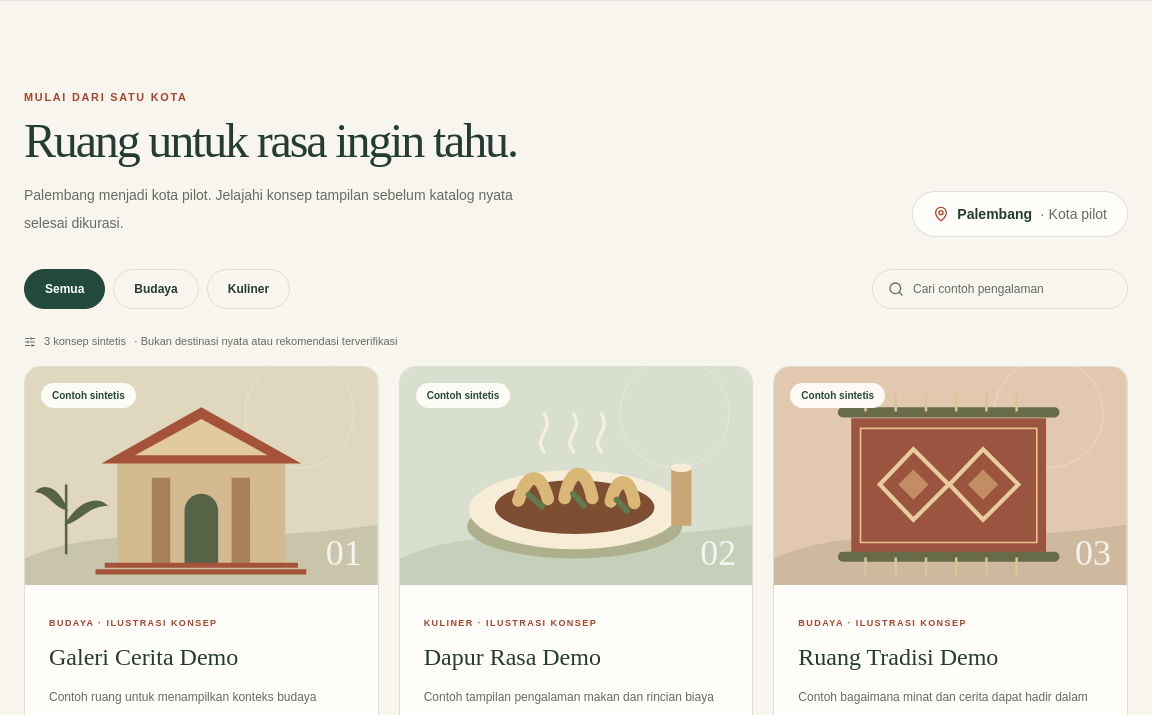
destination concept discovery › filters explicitly synthetic concepts and resets an empty search
expect the text "Contoh sintetis" is shown 3 times: met, box left=41, top=383, right=136, bottom=408; left=416, top=383, right=510, bottom=408; left=790, top=383, right=885, bottom=408
Click the button "Kuliner". click: (248, 289)
box: left=207, top=269, right=290, bottom=309
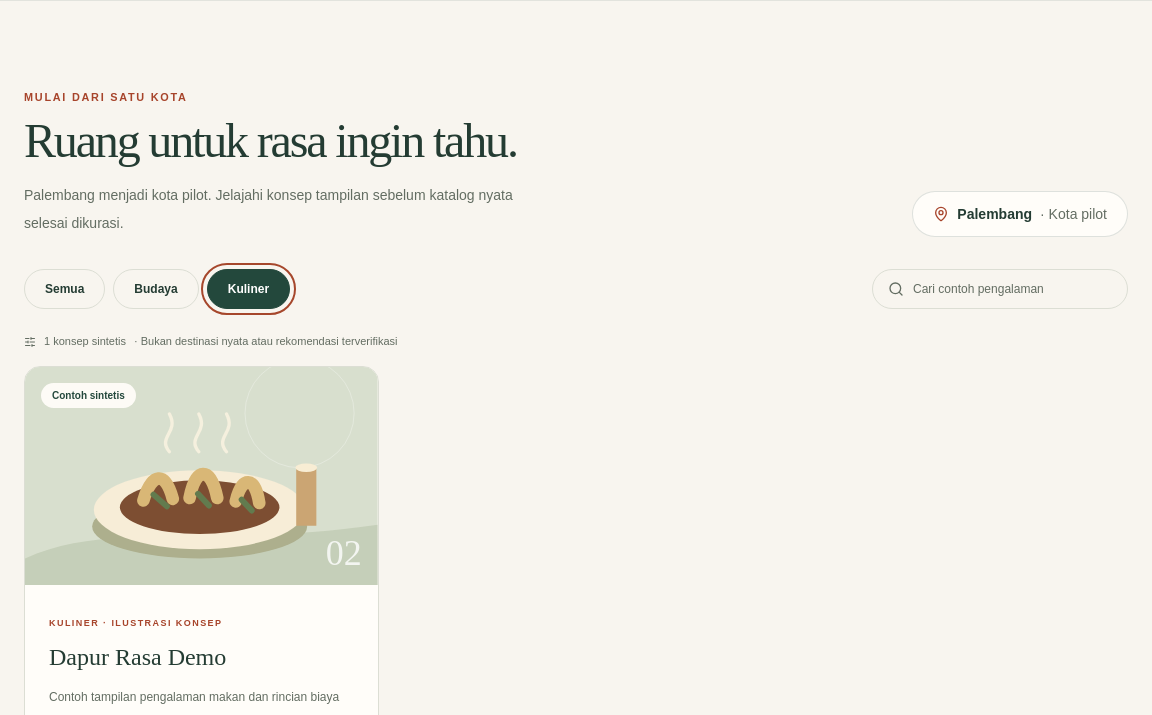
expect the heading "Dapur Rasa Demo" is shown: met, box left=49, top=644, right=226, bottom=670
expect the heading "Galeri Cerita Demo" is gone: met
Type "tidak-ada" into the search field. click: (1000, 289)
box: left=872, top=269, right=1128, bottom=309
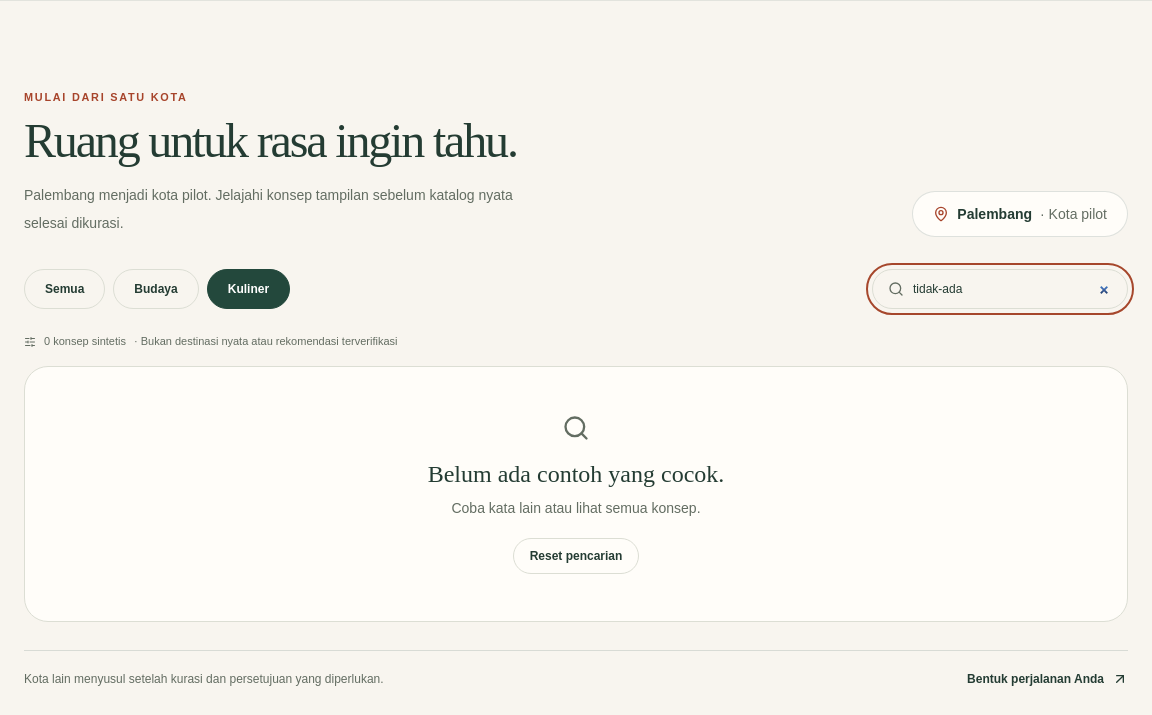
expect the heading "Belum ada contoh yang cocok." is shown: met, box left=428, top=458, right=724, bottom=490
Click the button "Reset pencarian". click: (576, 556)
box: left=513, top=538, right=639, bottom=574
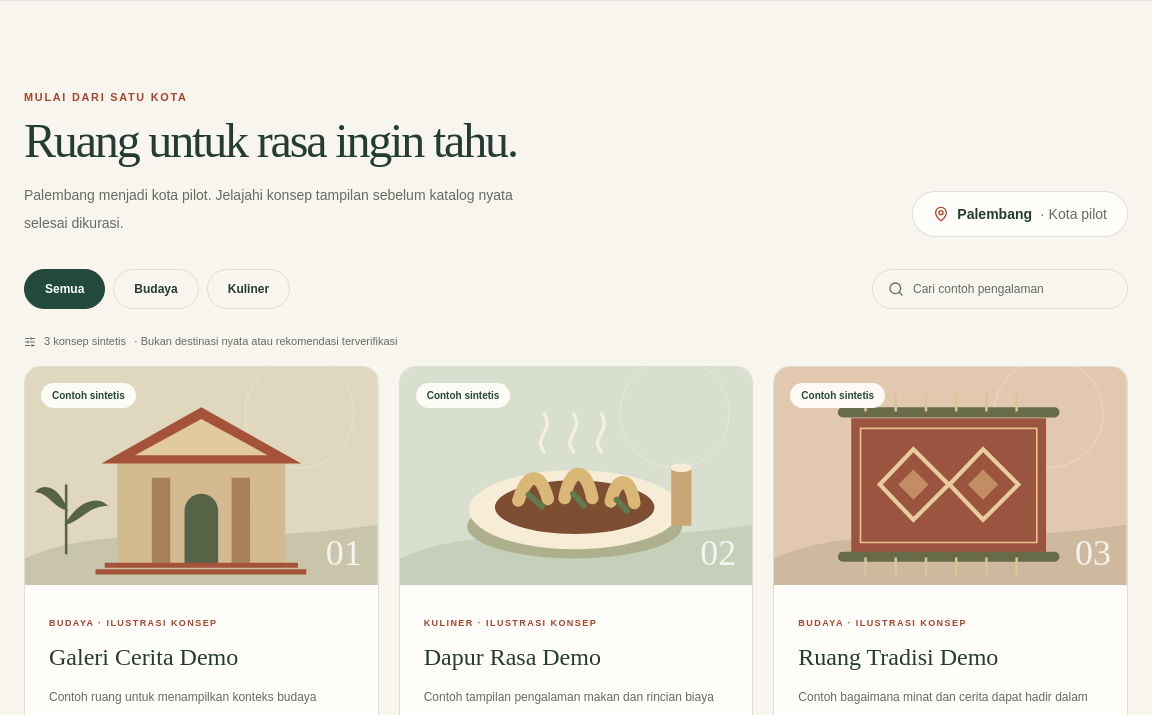
expect the text "Contoh sintetis" is shown 3 times: met, box left=41, top=383, right=136, bottom=408; left=416, top=383, right=510, bottom=408; left=790, top=383, right=885, bottom=408
